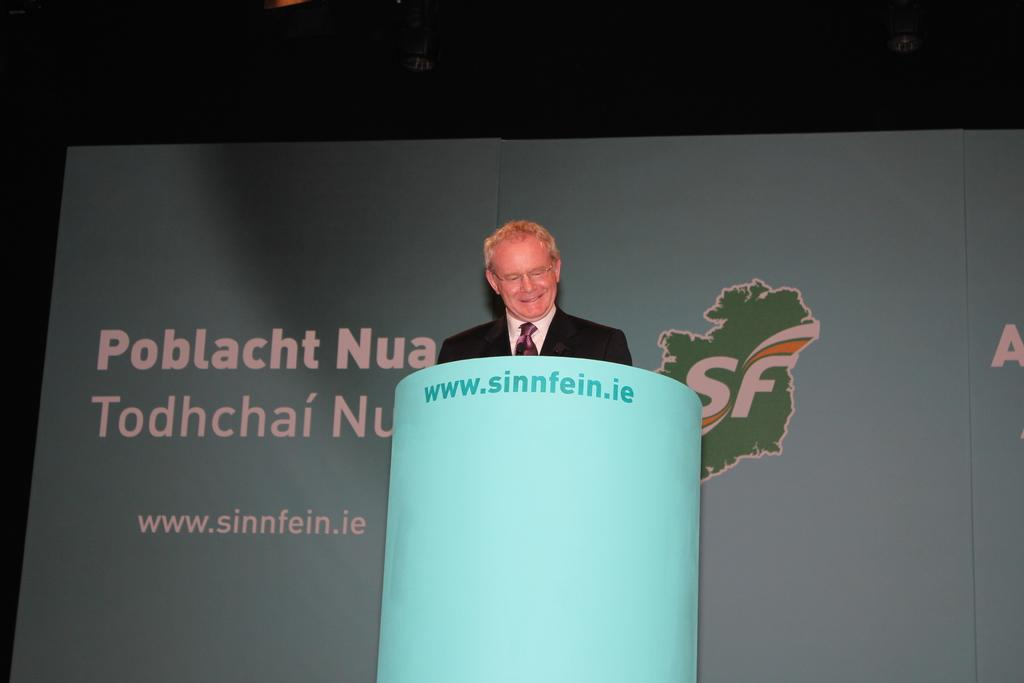Sem Máscara: (493, 234, 554, 318)
